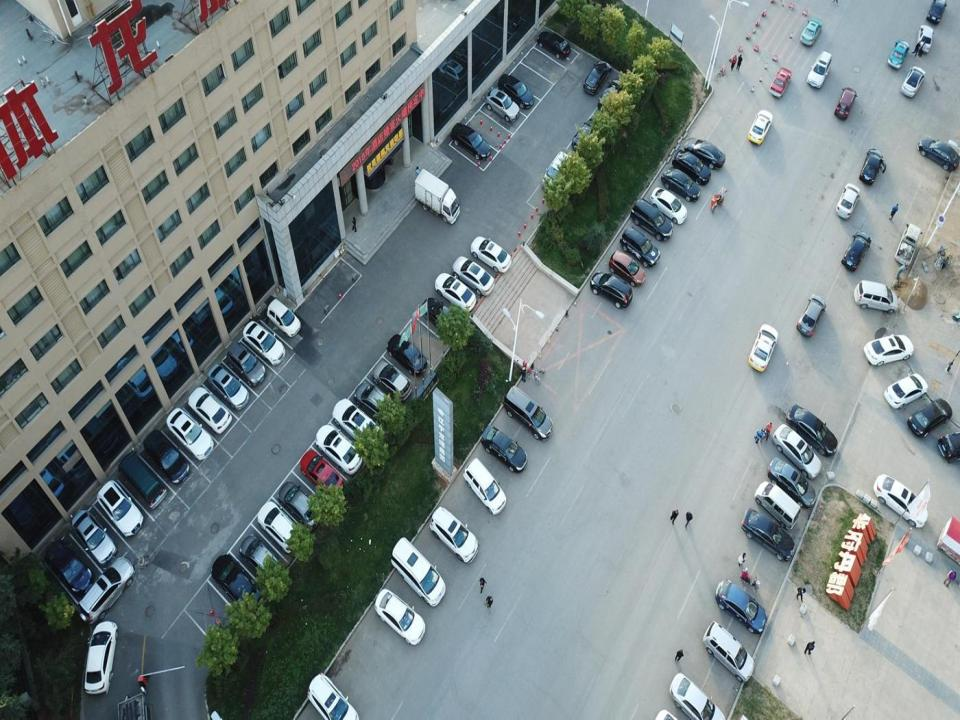car: (392, 539, 445, 607), (212, 550, 264, 616), (703, 622, 755, 682), (374, 586, 426, 643), (742, 508, 796, 562), (333, 398, 385, 454), (432, 506, 480, 565), (876, 475, 928, 528), (787, 404, 837, 459), (142, 430, 191, 486), (774, 424, 821, 481), (716, 581, 767, 633), (42, 544, 92, 596), (304, 671, 358, 719), (316, 424, 363, 479), (96, 482, 143, 537), (767, 459, 817, 510), (166, 410, 215, 461), (84, 620, 117, 694), (256, 505, 302, 558), (71, 512, 116, 566), (503, 388, 551, 438), (464, 460, 507, 515), (241, 533, 284, 588), (480, 425, 528, 473), (671, 673, 721, 719), (277, 484, 324, 530), (187, 388, 231, 436), (243, 318, 285, 367), (301, 451, 343, 497), (354, 383, 396, 427), (208, 366, 251, 408), (909, 399, 953, 439), (633, 199, 672, 244), (227, 343, 265, 388), (590, 271, 632, 311), (916, 136, 959, 175), (862, 334, 914, 366), (618, 229, 660, 268), (372, 360, 410, 402), (884, 374, 928, 410), (434, 273, 474, 312), (387, 335, 426, 375), (471, 238, 512, 276), (454, 258, 496, 295), (749, 322, 779, 373), (648, 187, 688, 224), (423, 297, 459, 338), (671, 150, 709, 188), (453, 121, 490, 160), (662, 168, 701, 204), (267, 297, 301, 338), (609, 251, 645, 287), (684, 139, 726, 169), (842, 230, 872, 272), (540, 152, 570, 194), (497, 75, 534, 109), (597, 79, 630, 117), (536, 28, 572, 60), (796, 297, 826, 335), (584, 57, 612, 96), (485, 87, 518, 120), (572, 117, 599, 157), (804, 52, 833, 87), (835, 184, 861, 219), (748, 108, 772, 145), (860, 150, 883, 185), (937, 428, 960, 463), (834, 88, 858, 121), (902, 64, 926, 97), (769, 68, 792, 99), (887, 39, 909, 68), (799, 20, 822, 45), (925, 0, 948, 25), (916, 25, 933, 53)
truck: (413, 169, 459, 224), (894, 223, 920, 267)
van: (80, 556, 133, 622), (117, 452, 166, 511), (755, 480, 801, 530), (854, 280, 899, 313)
